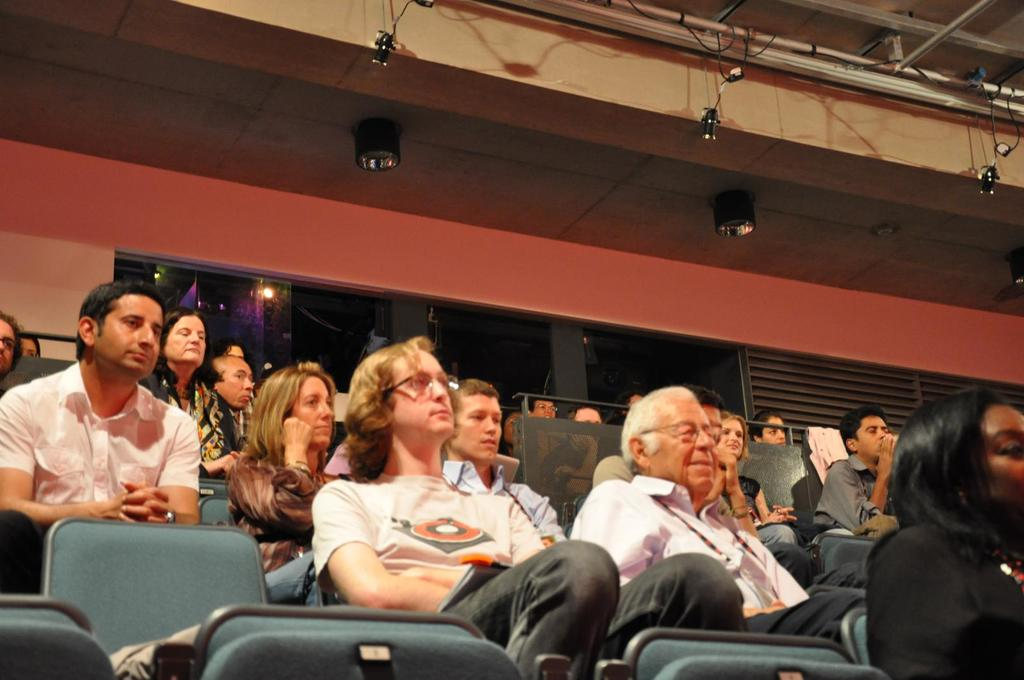Human-face: (375, 354, 461, 434), (650, 397, 717, 493), (97, 296, 161, 380), (982, 399, 1023, 516), (455, 391, 505, 467), (279, 376, 325, 447), (214, 360, 257, 407), (168, 306, 204, 360), (854, 416, 890, 457), (0, 317, 19, 367), (724, 418, 746, 451), (762, 418, 786, 448), (577, 407, 607, 420), (534, 401, 556, 416), (22, 334, 34, 355), (229, 347, 241, 355)
